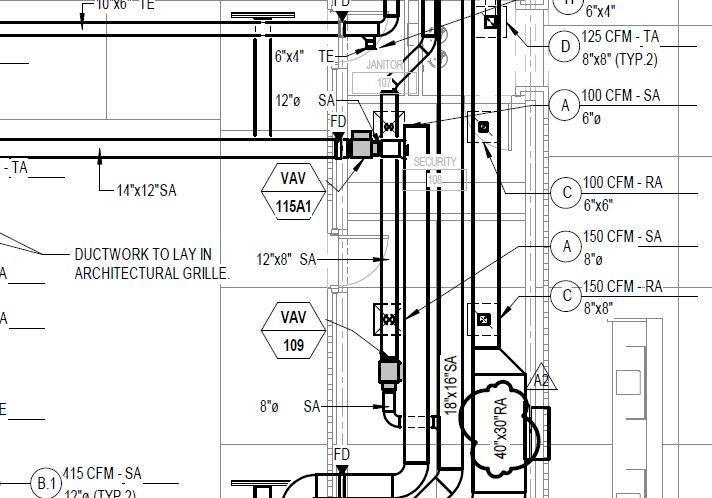VAV: (336, 112, 382, 175), (370, 344, 411, 401)
